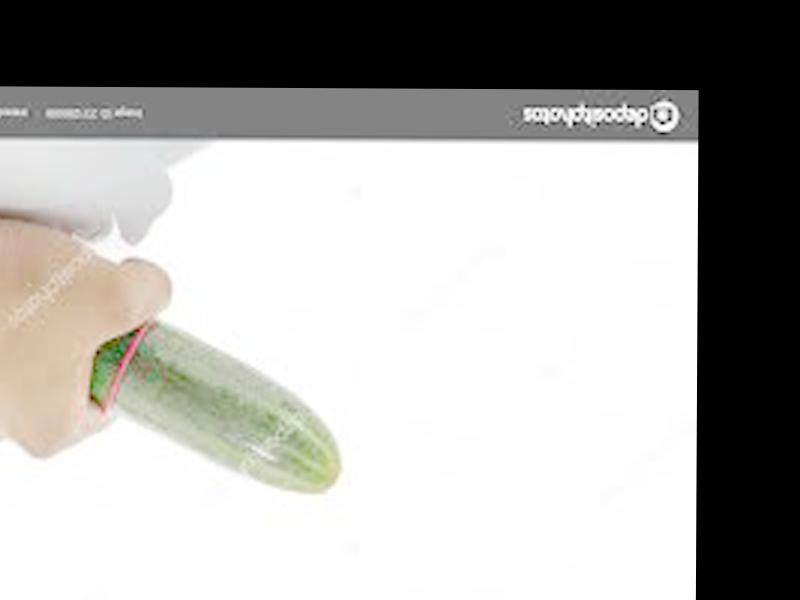Cucumber: (88, 321, 341, 494)
